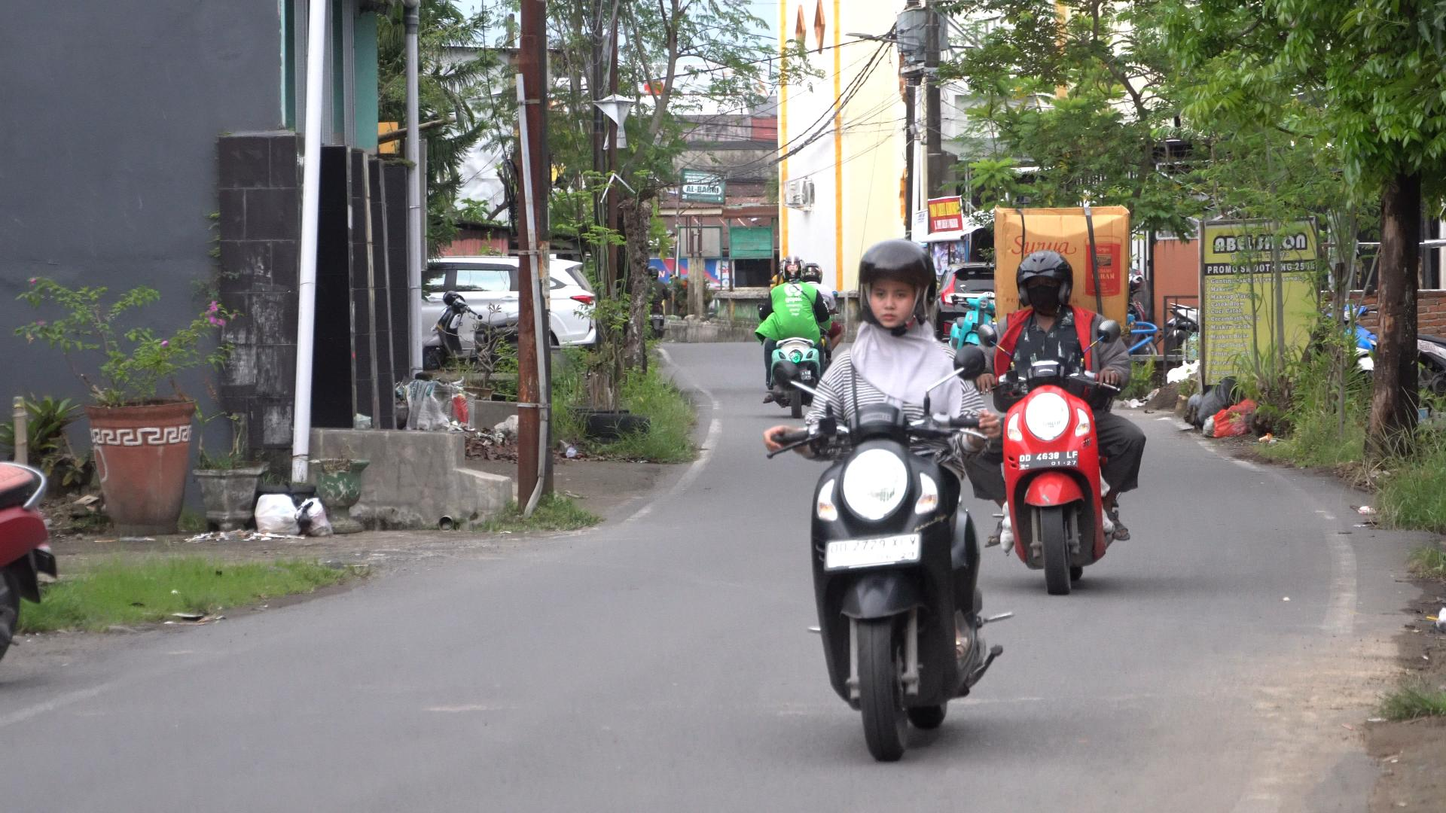number-plate: (1017, 450, 1078, 472)
